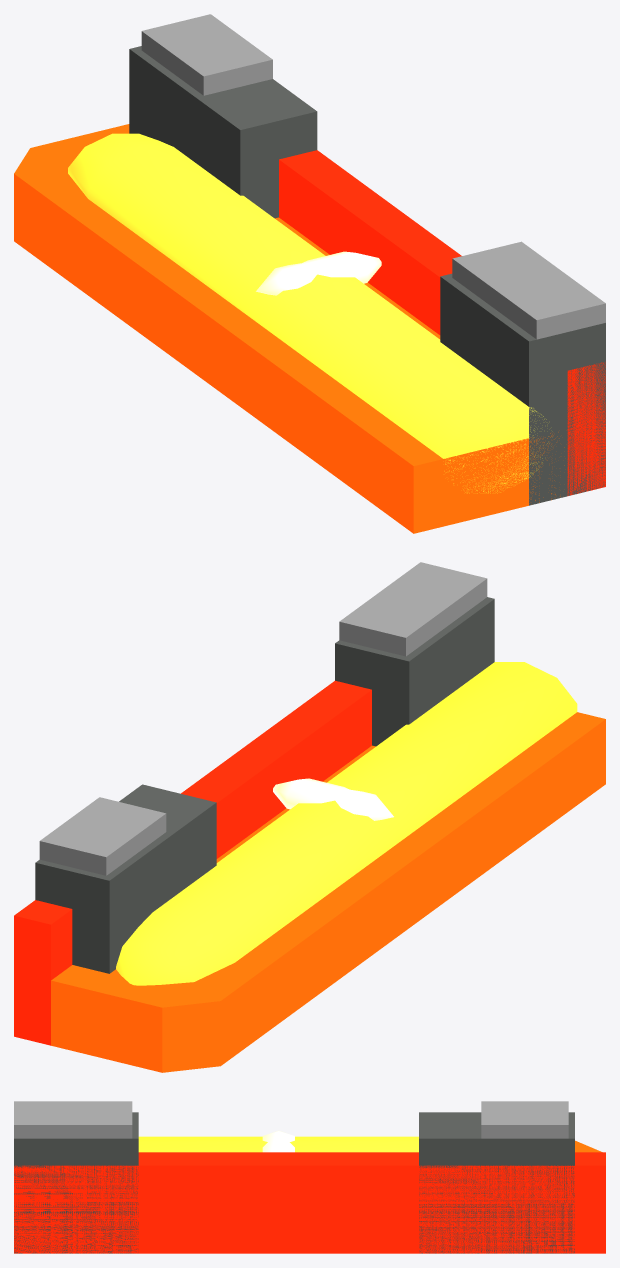
File: newsha-1-f3.glb
3 views of the same model, one above another, from view 1: azimuth 30°, elevation 25°; view 2: azimuth 150°, elevation 25°; view 3: azimuth 270°, elevation 25° (orthographic). The views are drawn at different scales.
Visible parts, largest first — view 1: newsha-1-f3; view 2: newsha-1-f3; view 3: newsha-1-f3.
Boxes of the visible parts, x1,y1,x2,y2 form: newsha-1-f3: (14,14,605,533); newsha-1-f3: (14,562,605,1072); newsha-1-f3: (14,1101,605,1253).
Size of the model in its own units: 0.4167 by 0.38 by 1.58.
